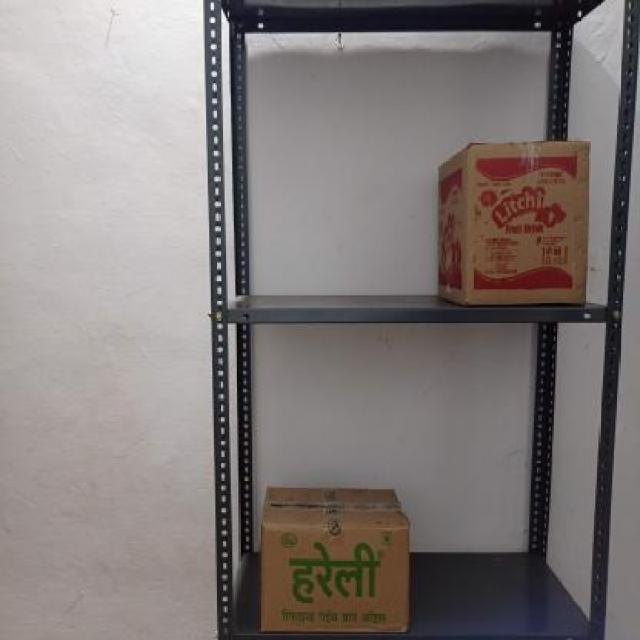box: (467, 142, 590, 304), (259, 523, 412, 632)
